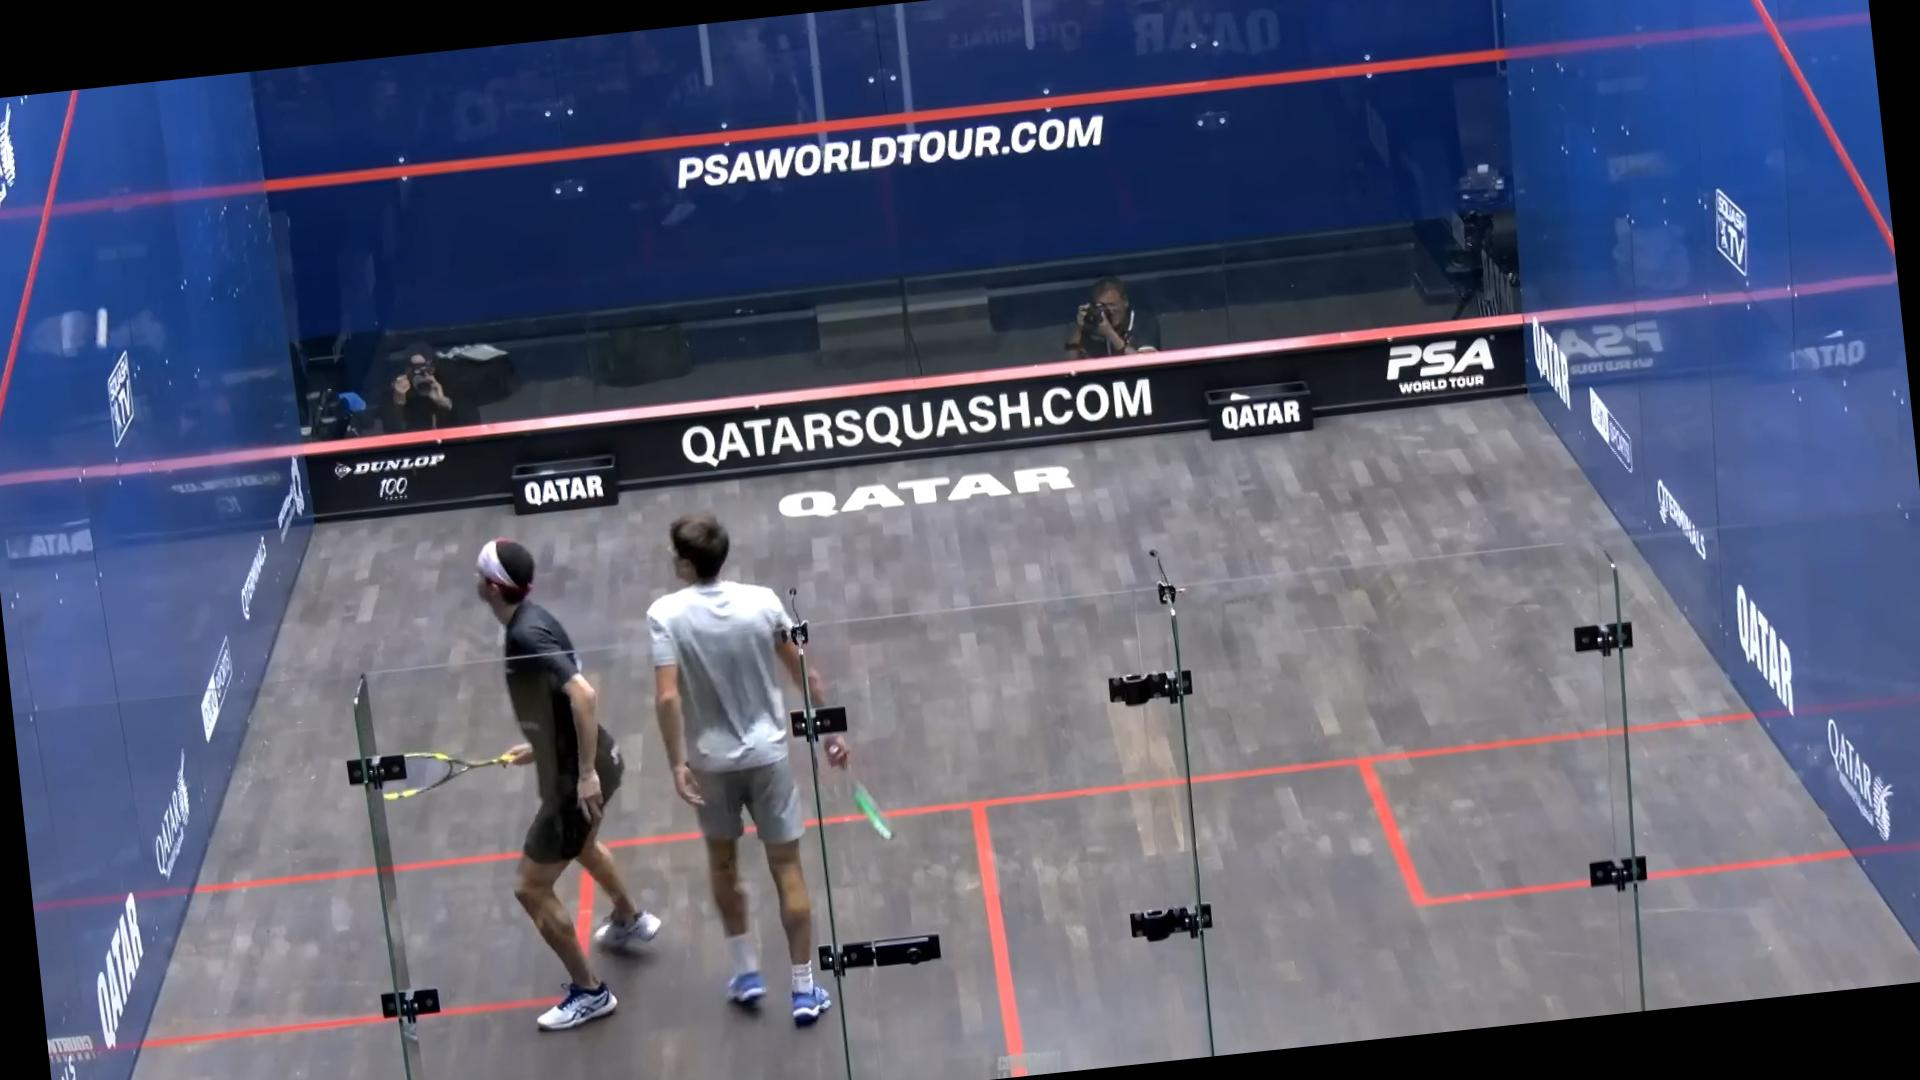Racket: (367, 733, 516, 811)
